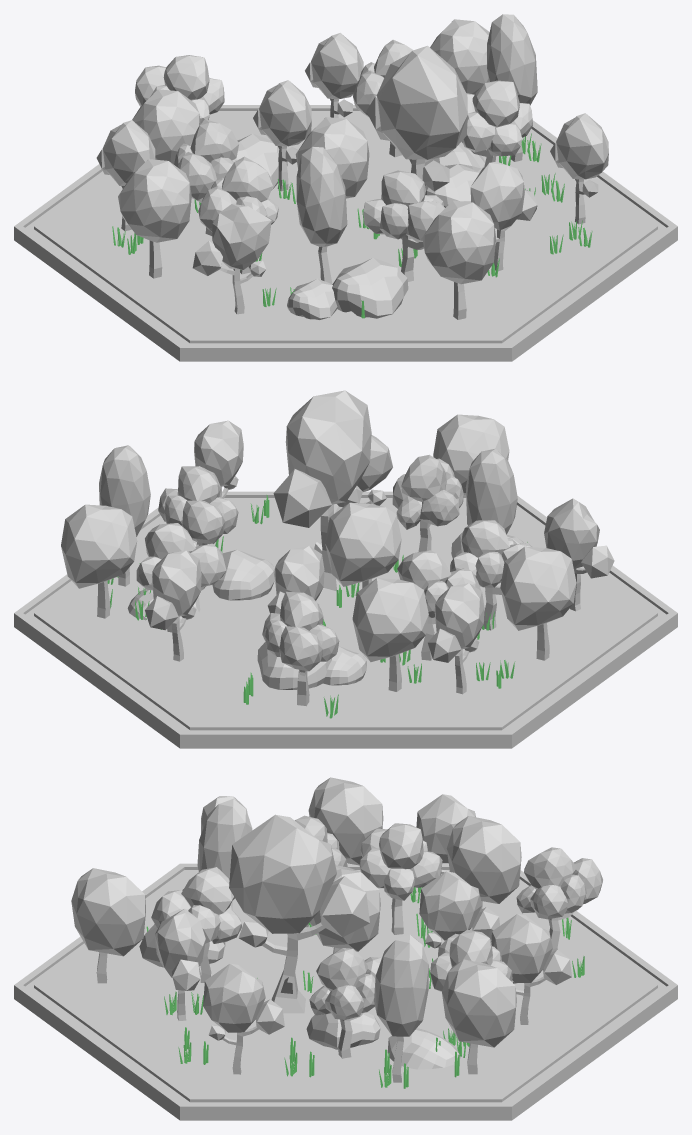
The model's file is Hexagon_Forrest.glb.
The picture shows the model from 3 angles, top to bottom: view 1: azimuth 30°, elevation 25°; view 2: azimuth 150°, elevation 25°; view 3: azimuth 270°, elevation 25°; orthographic projection.
Parts seen in each view (by area): view 1: Circle, Tree 2.003, Tree 5.003, Tree 5.004, Tree 4.004, Tree 6, Tree 2.006, Tree 6.003, Tree 2.001, Cube.003, Tree 2.005, Tree 4.001 (+15 smaller); view 2: Circle, Tree 2.003, Tree 5.004, Tree 5.002, Tree 5.001, Tree 5, Tree 6.004, Tree 6, Tree 6.003, Tree 2.004, Tree 2.002, Tree 2.006 (+13 smaller); view 3: Circle, Tree 2.003, Tree 5.001, Tree 5.003, Tree 5.002, Tree 6.005, Tree 4.001, Tree 6.004, Tree 2.001, Tree 6.003, Tree 6, Tree 2.004 (+12 smaller).
Part boxes in pixels (x1,y1,x2,y2): Circle: (14, 105, 677, 361); Tree 2.003: (366, 45, 467, 239); Tree 5.003: (422, 200, 495, 319); Tree 5.004: (118, 159, 191, 278); Tree 4.004: (296, 146, 347, 284); Tree 6: (363, 170, 444, 281); Tree 2.006: (192, 204, 271, 314); Tree 6.003: (462, 80, 532, 166); Tree 2.001: (550, 113, 608, 224); Cube.003: (332, 257, 408, 318); Tree 2.005: (470, 161, 537, 271); Tree 4.001: (487, 14, 537, 161); Circle: (14, 491, 677, 748); Tree 2.003: (273, 390, 371, 591); Tree 5.004: (500, 546, 576, 660); Tree 5.002: (352, 578, 428, 691); Tree 5.001: (61, 504, 137, 618); Tree 5: (325, 502, 401, 588); Tree 6.004: (262, 591, 339, 706); Tree 6: (392, 454, 463, 552); Tree 6.003: (158, 466, 238, 545); Tree 2.004: (145, 550, 201, 661); Tree 2.002: (428, 583, 484, 694); Tree 2.006: (544, 498, 614, 611); Circle: (14, 863, 677, 1120); Tree 2.003: (229, 814, 369, 1013); Tree 5.001: (442, 959, 516, 1074); Tree 5.003: (71, 868, 145, 983); Tree 5.002: (446, 816, 521, 909); Tree 6.005: (359, 823, 442, 934); Tree 4.001: (374, 935, 428, 1082); Tree 6.004: (516, 847, 602, 952); Tree 2.001: (203, 963, 284, 1074); Tree 6.003: (309, 948, 381, 1058); Tree 6: (151, 867, 241, 982); Tree 2.004: (491, 914, 571, 1024).
Size of the model in its own units: 30.17 by 11.86 by 34.84.
Materials: 2 (1 with a texture image).
